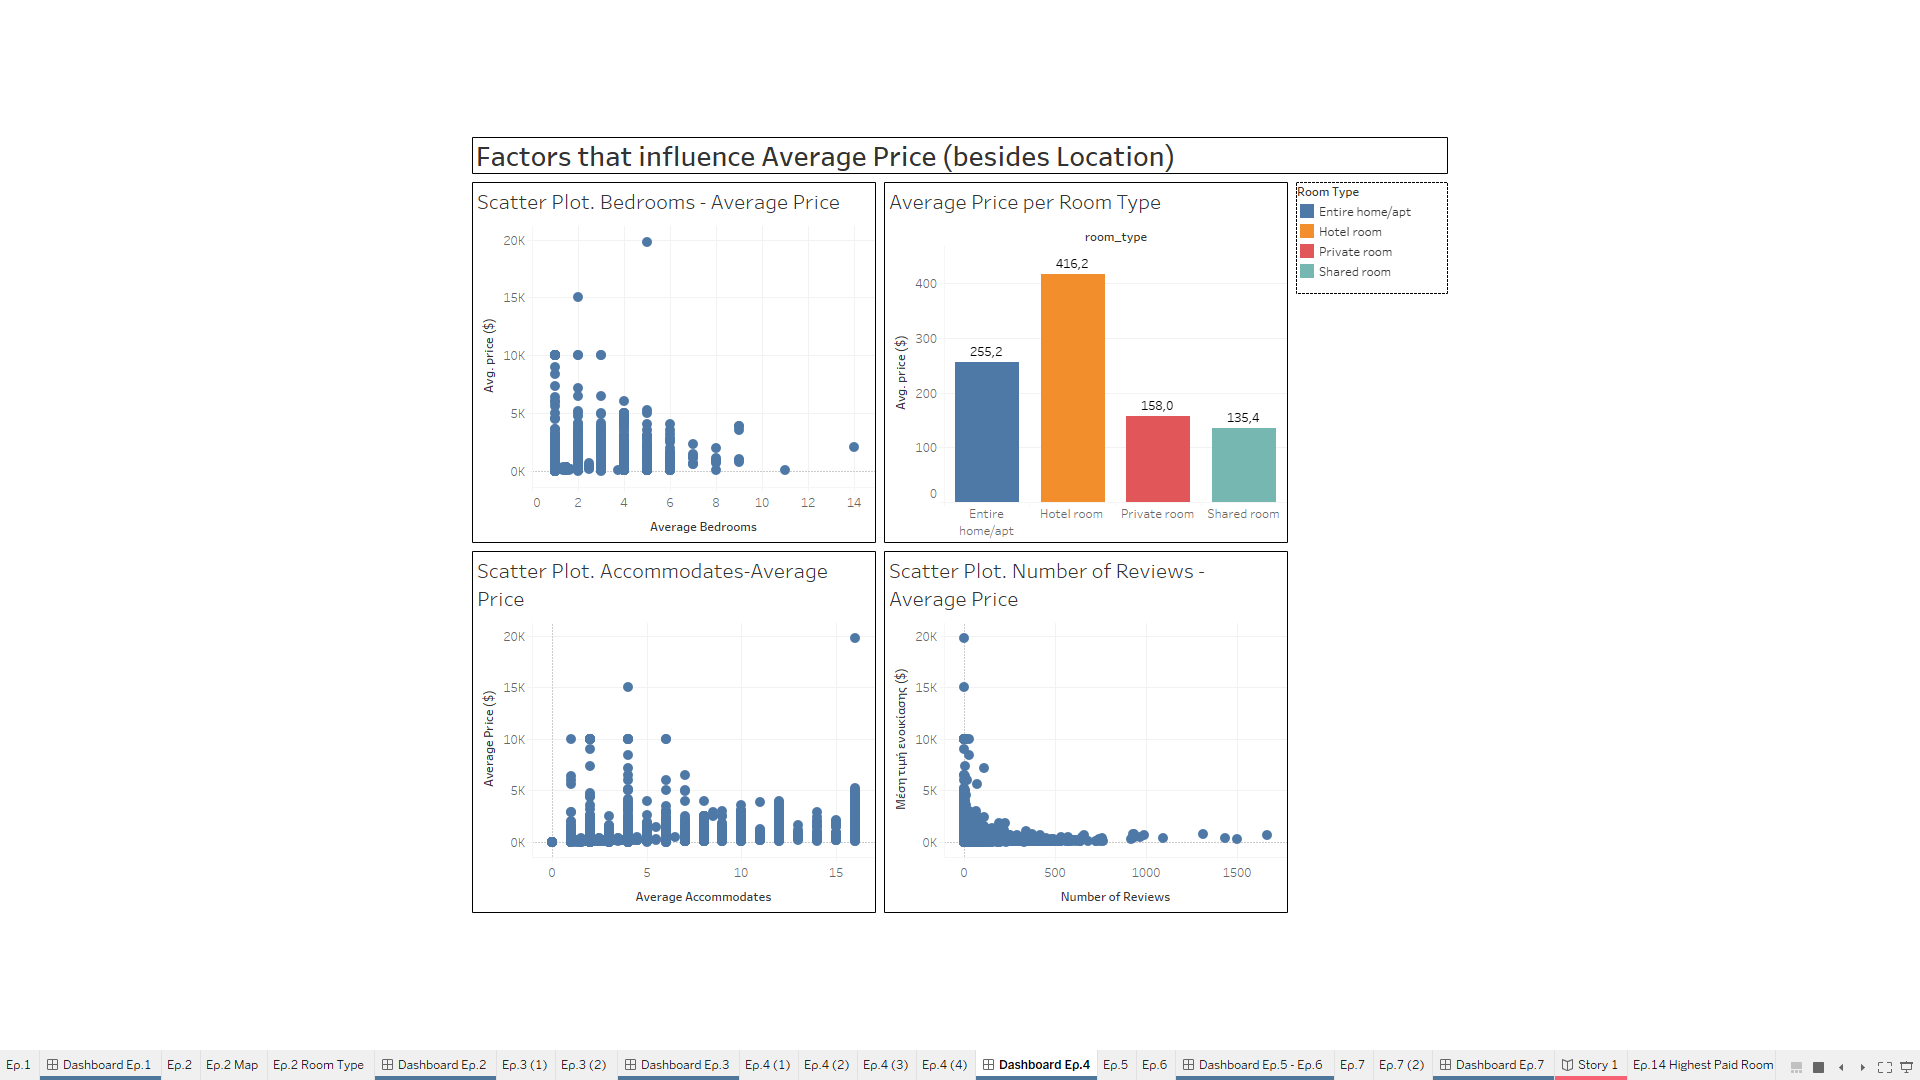

This screenshot's page, from the dashboard's own definition file:
{"tool":"tableau","page":{"name":"Dashboard Ερ.4","canvas":[1000,800],"ordinal":8},"visuals":[{"type":"title","box":[8,8,984,45]},{"type":"worksheet","title":"Eρ.4 (3)","mark":"Circle","rows":["price"],"cols":["bedrooms"],"box":[8,53,412,369.5]},{"type":"worksheet","title":"Ερ.4 (1)","mark":"Automatic","rows":["price"],"cols":["room_type"],"box":[420,53,412,369.5]},{"type":"legend","title":"Ερ.4 (1)","param":"[federated.0qx4ns015wxjyk1gr6kcb1janunp].[none:room_type:nk]","box":[832,53,160,120]},{"type":"worksheet","title":"Ερ.4 (2)","mark":"Circle","rows":["price"],"cols":["accommodates"],"box":[8,422.5,412,369.5]},{"type":"worksheet","title":"Ερ.4 (4)","mark":"Circle","rows":["price"],"cols":["number_of_reviews"],"box":[420,422.5,412,369.5]}]}

Visuals, with their boxes on the page's 1000x800 design canvas (x1, y1, x2, y2). These are canvas units, not pixel positions in the 1920x1080 screenshot, which may show the page scaled, cropped or inside an application window:
title: <bbox>8, 8, 992, 53</bbox>
"Eρ.4 (3)" worksheet (Circle marks): <bbox>8, 53, 420, 422</bbox>
"Ερ.4 (1)" worksheet: <bbox>420, 53, 832, 422</bbox>
"Ερ.4 (1)" legend: <bbox>832, 53, 992, 173</bbox>
"Ερ.4 (2)" worksheet (Circle marks): <bbox>8, 422, 420, 792</bbox>
"Ερ.4 (4)" worksheet (Circle marks): <bbox>420, 422, 832, 792</bbox>
